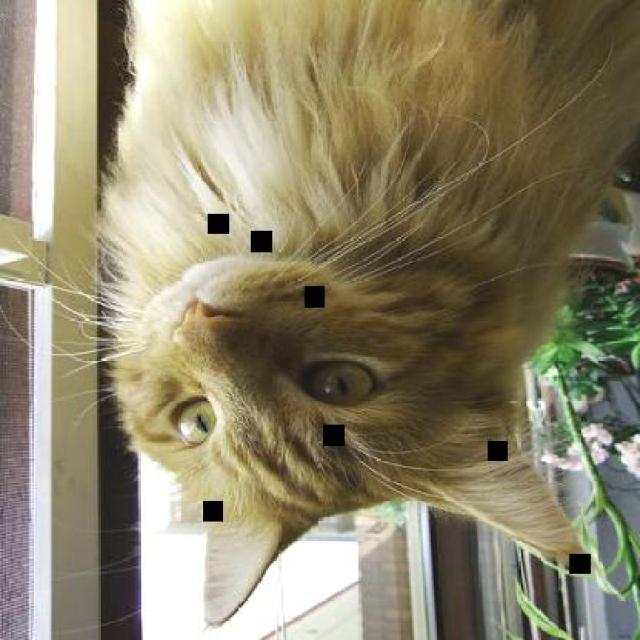cat: (104, 2, 638, 630)
